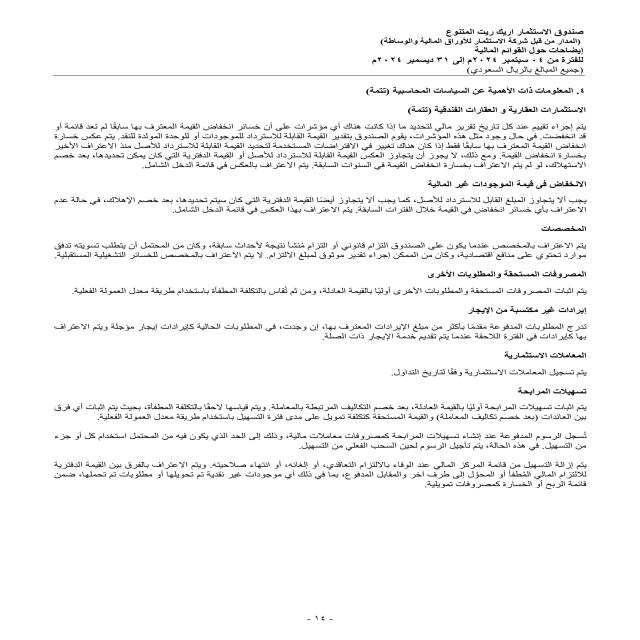notes: (459, 46, 589, 56)
text: (30, 80, 583, 506)
